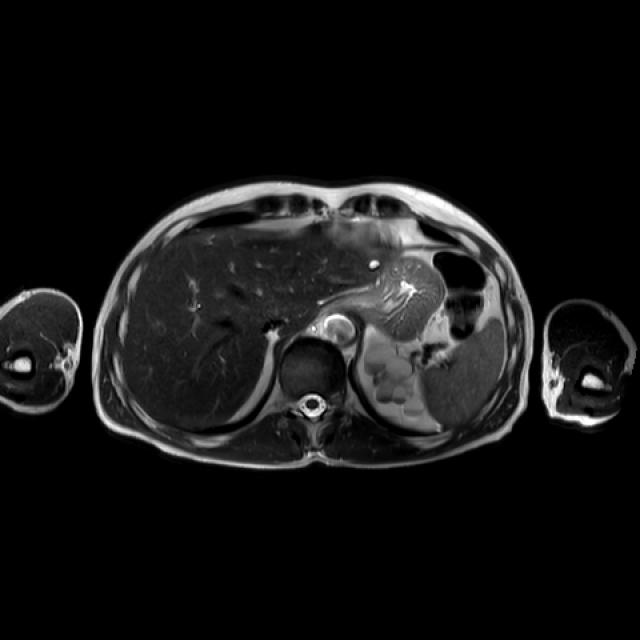sol: (366, 334, 427, 423)
